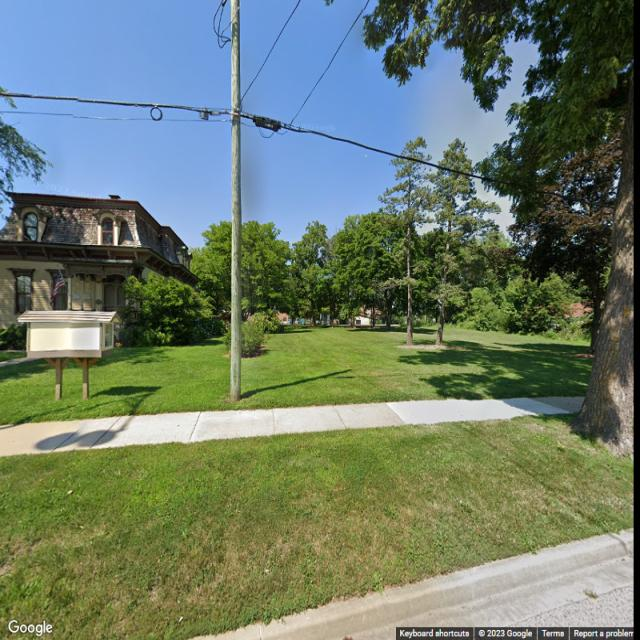House: (0, 191, 200, 340)
